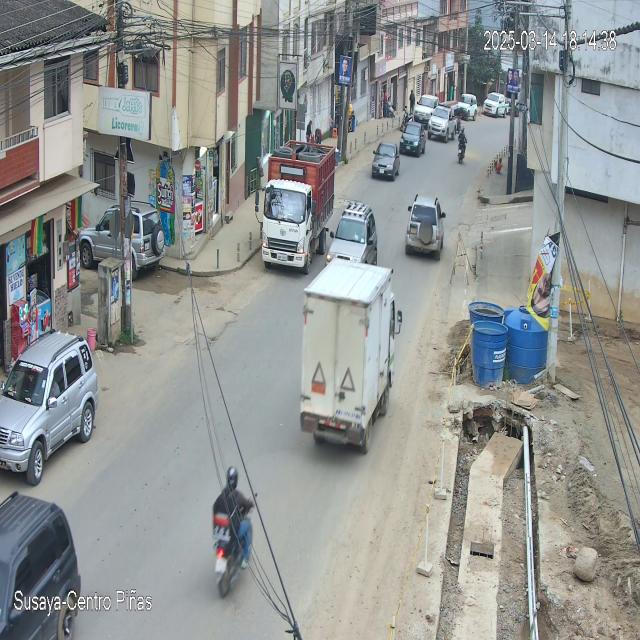SUV: (330, 201, 380, 265)
TRUCK: (299, 260, 401, 454), (262, 140, 336, 275)
